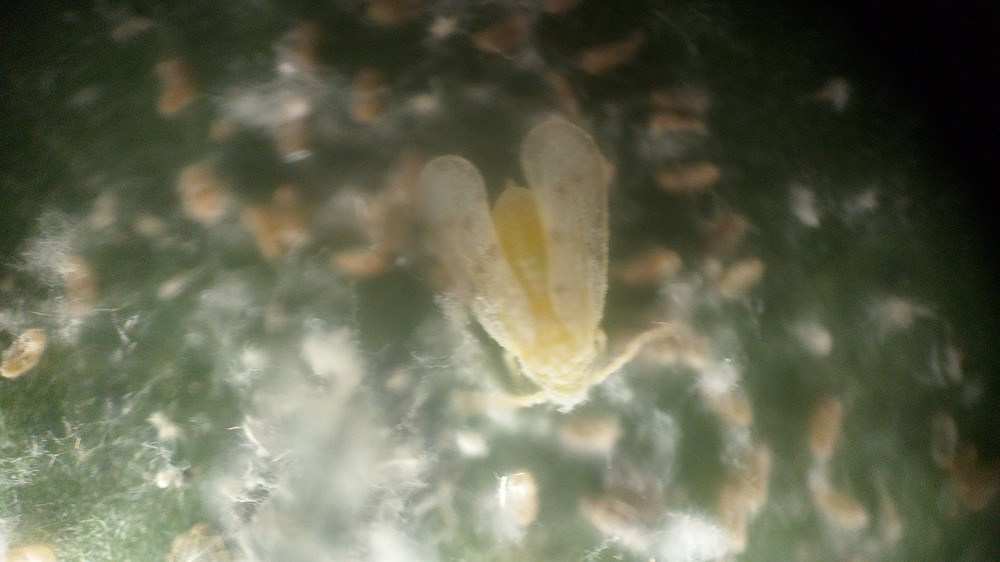Mosca Blanca: (408, 125, 694, 428)
